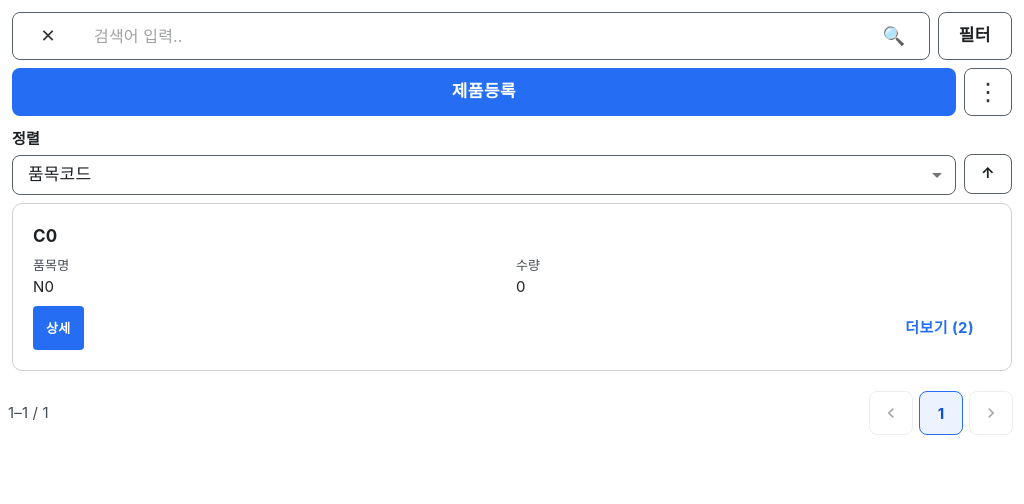
MjGrid mobile layout › a collapsed card hides fields past cardFields behind "더보기" and shows them on tap
Expected: the text "memo0" is not shown
Click the button "더보기 (2)": coordinates (940, 328) [888,306,991,350]
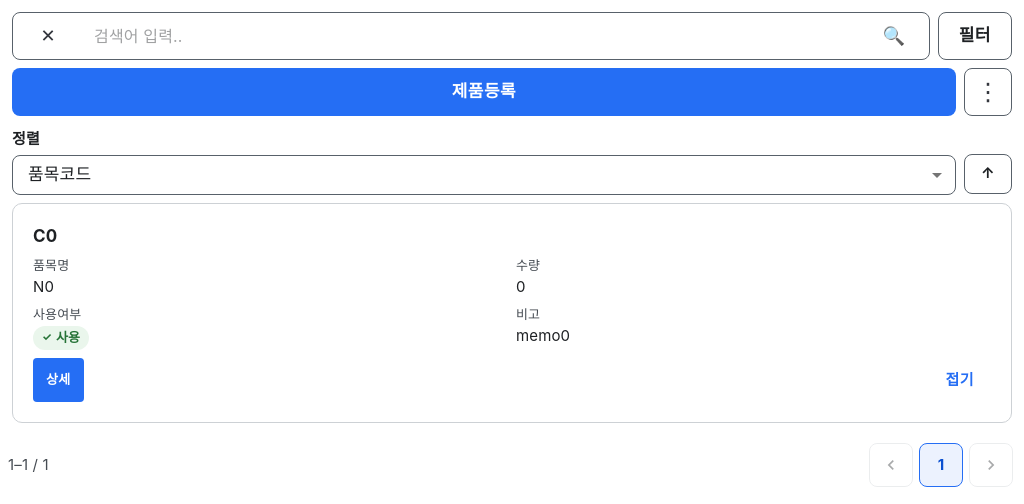
Expected: the button "상세" is shown, [33,358,84,402]
Expected: the text "memo0" is shown, [516,326,570,345]
